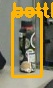bottle: (12, 12, 41, 76)
